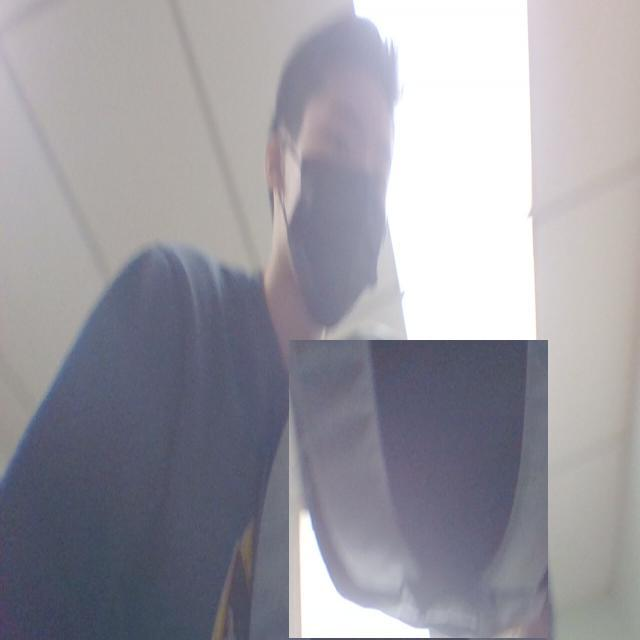Backpacks: (289, 340, 549, 639)
